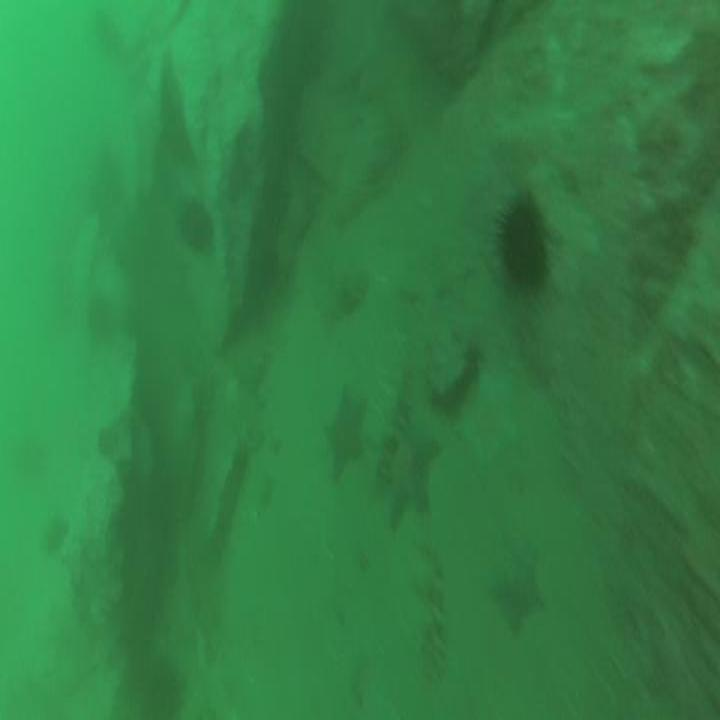echinus: (490, 187, 554, 295), (176, 194, 213, 261)
holothurian: (373, 363, 414, 487), (419, 526, 446, 679)
starfish: (377, 410, 444, 530), (318, 382, 372, 482), (492, 537, 545, 635)
